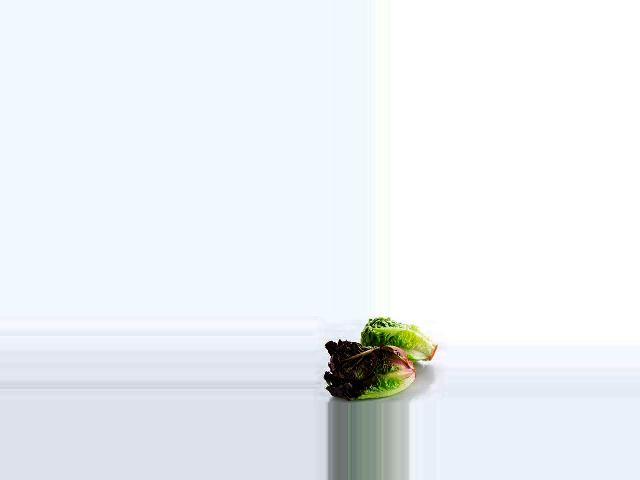lettuce: (359, 316, 440, 363)
